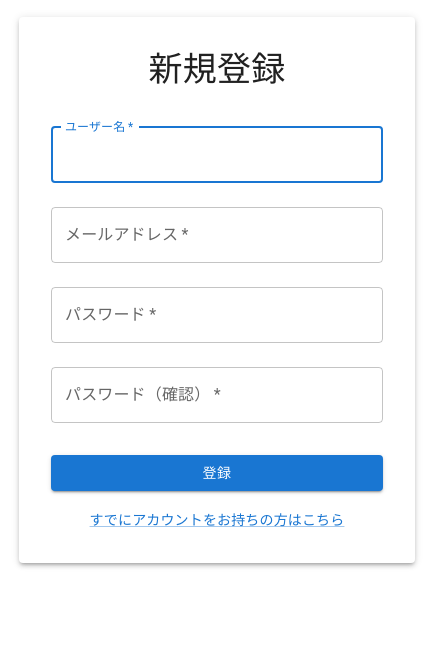
Scenario: Register › shows generic error message on registration exception
Type "testuser" into the field named "username" at (217, 155), box [51,127,383,183]
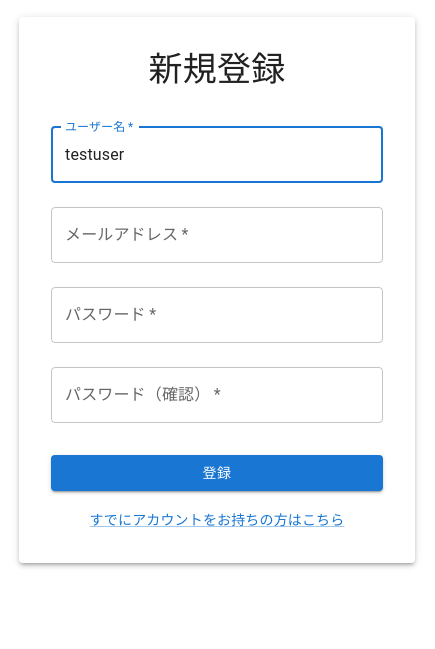
Type "test@example.com" into the field named "email" at (217, 235), box [51,207,383,263]
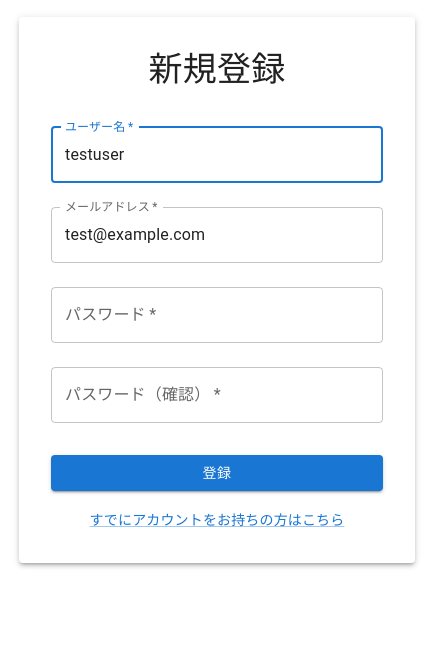
Type "password123" into the password field named "password" at (217, 315), box [51,287,383,343]
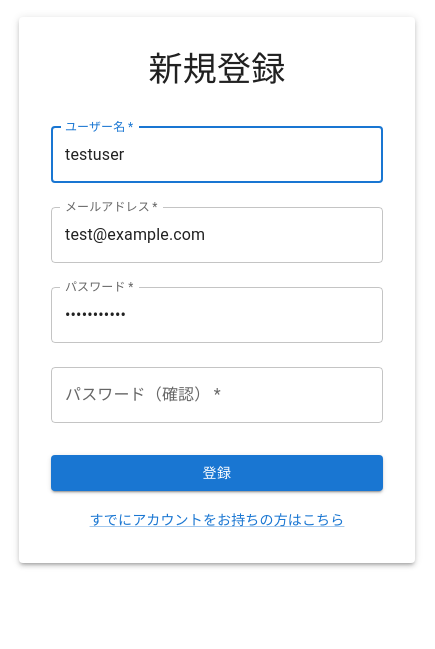
Type "password123" into the password field named "confirmPassword" at (217, 395), box [51,367,383,423]
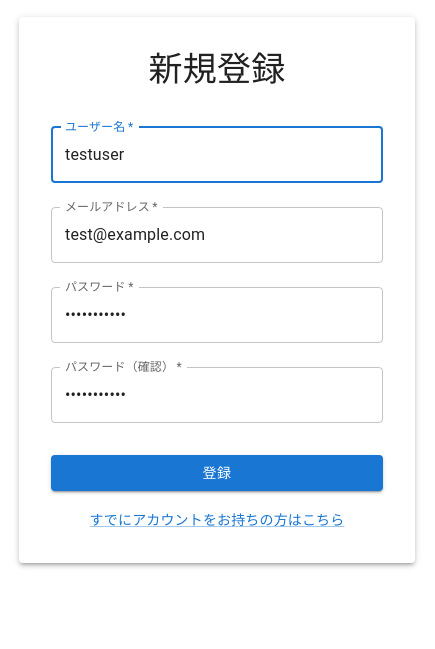
Click the button "登録" at (217, 473), box [51,455,383,491]
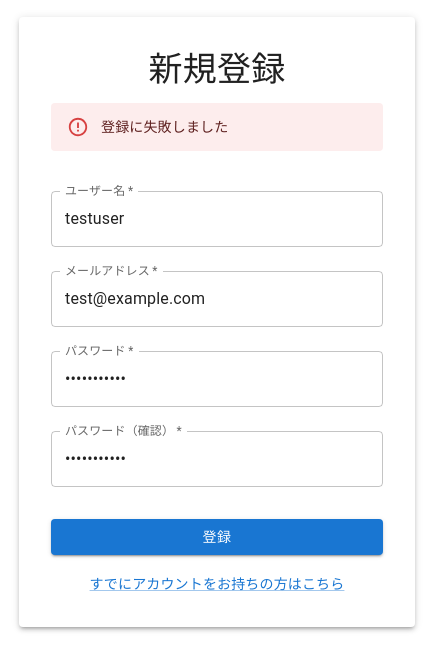
Expected: the text "登録に失敗しました" is shown, [101,119,228,135]
